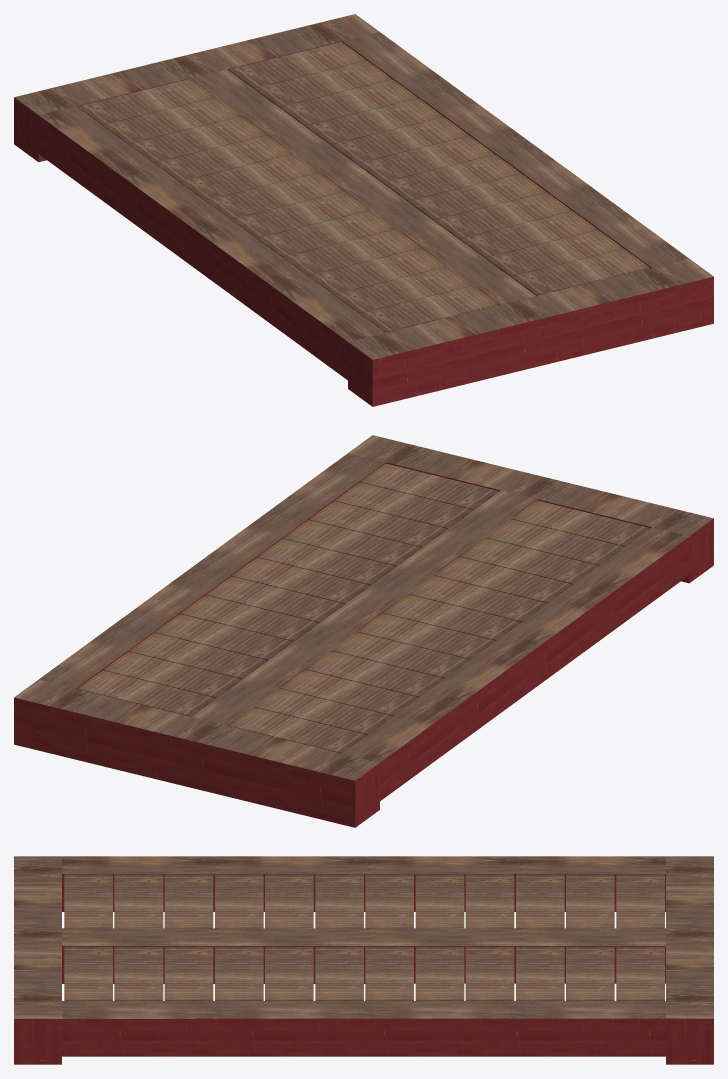
Rendered from SM_F_Wood_1.fbx.
3 renders of one model, top to bottom at view 1: azimuth 30°, elevation 25°; view 2: azimuth 150°, elevation 25°; view 3: azimuth 270°, elevation 25°, orthographic. The views are drawn at different scales.
Parts seen in each view (by area): view 1: SM_F_Wood_1; view 2: SM_F_Wood_1; view 3: SM_F_Wood_1.
Part boxes in pixels (x1,y1,x2,y2): SM_F_Wood_1: (14, 14, 713, 406); SM_F_Wood_1: (14, 435, 713, 827); SM_F_Wood_1: (14, 856, 713, 1064).
Bounding box in the file's own units: 169 × 307 × 22.25.
3 materials, 3 textured.
